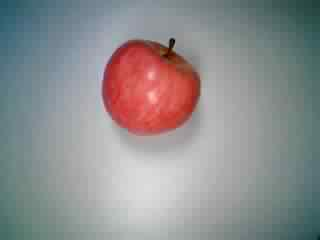apple: (100, 34, 205, 136)
